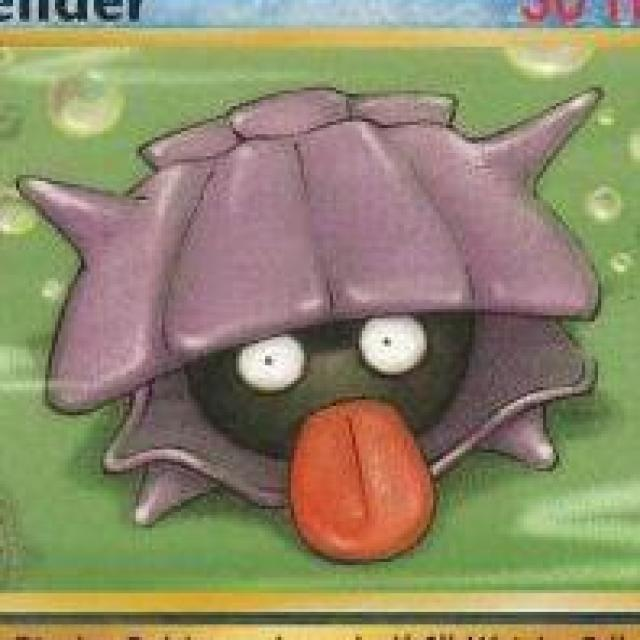Shellder: (42, 127, 584, 530)
